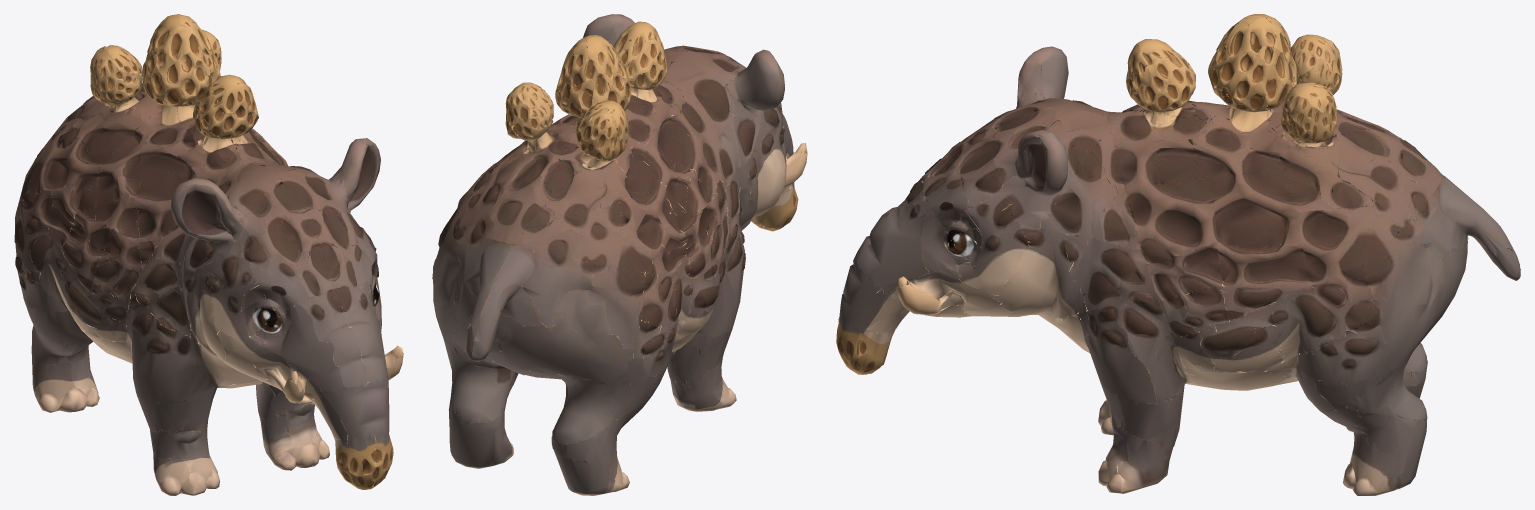
3 views of the same model, side by side, from view 1: azimuth 30°, elevation 25°; view 2: azimuth 150°, elevation 25°; view 3: azimuth 270°, elevation 25° (orthographic). The views are drawn at different scales.
Visible parts, largest first — view 1: Mesh_0; view 2: Mesh_0; view 3: Mesh_0.
Part boxes in pixels (x1,y1,x2,y2): Mesh_0: (14,14,403,495); Mesh_0: (432,14,807,495); Mesh_0: (836,14,1520,495).
Size of the model in its own units: 0.8089 by 1.34 by 1.9.
Materials: 1 (1 with a texture image).
